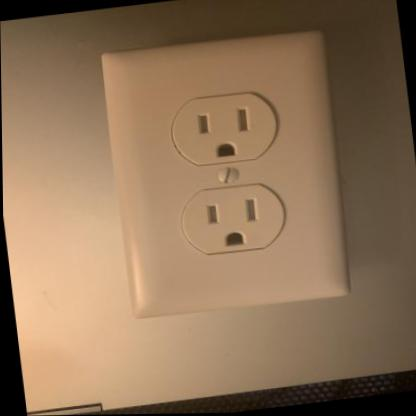OUTLET: (97, 25, 358, 324)
